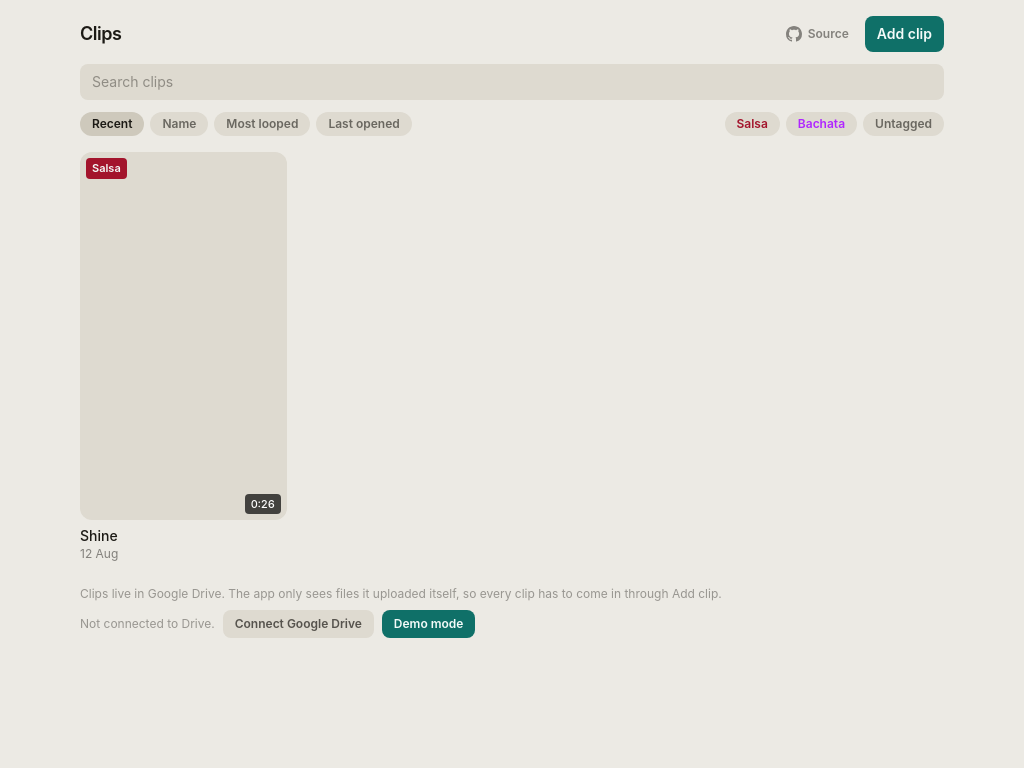
Test: the style chips › says every clip has a style when none is untagged
Click the button "Untagged": click(904, 124) [863,112,944,136]
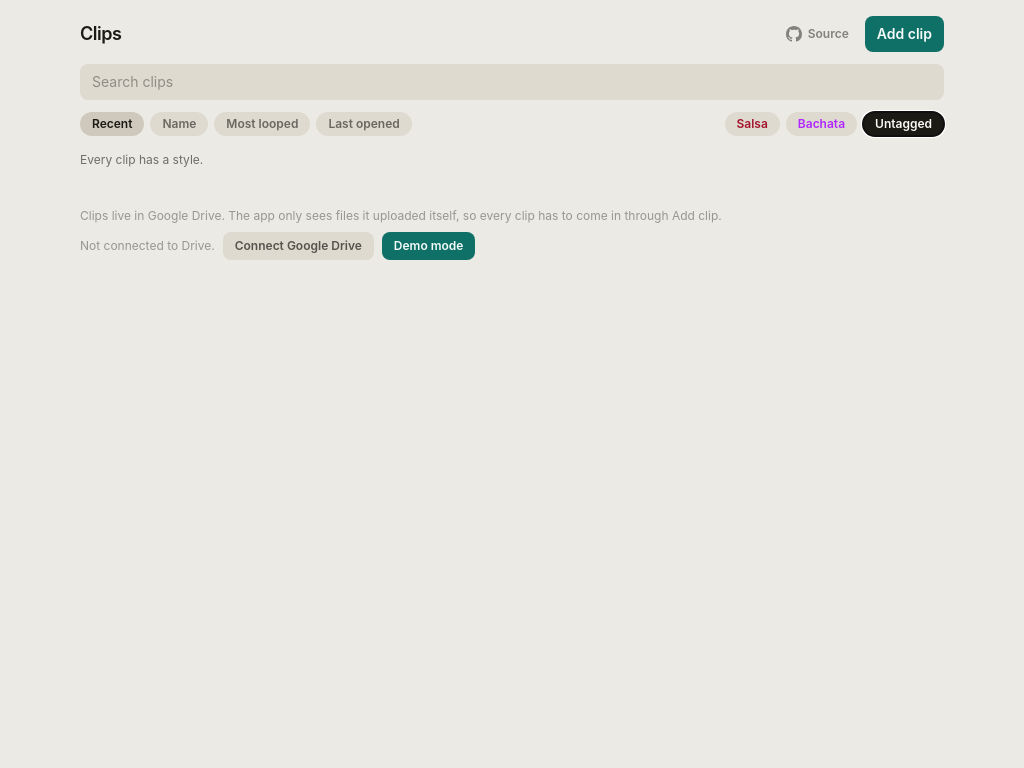
Expected: the message named "Filter by style" reads "Every clip has a style.", [80,152,203,167]
